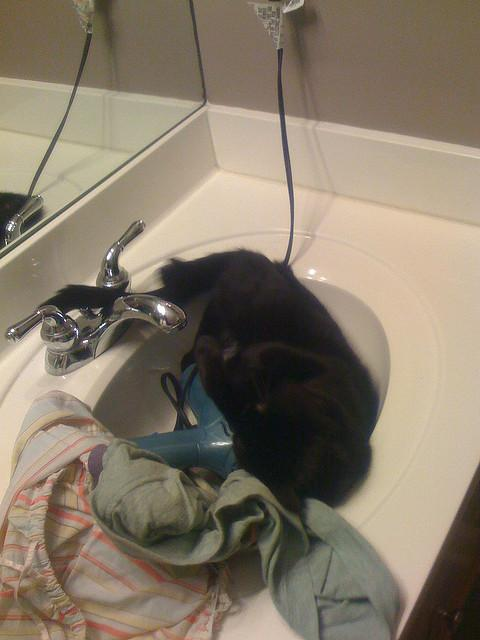Lavamanos: (23, 240, 439, 563)
Otro Obstaculo: (145, 235, 374, 523)
